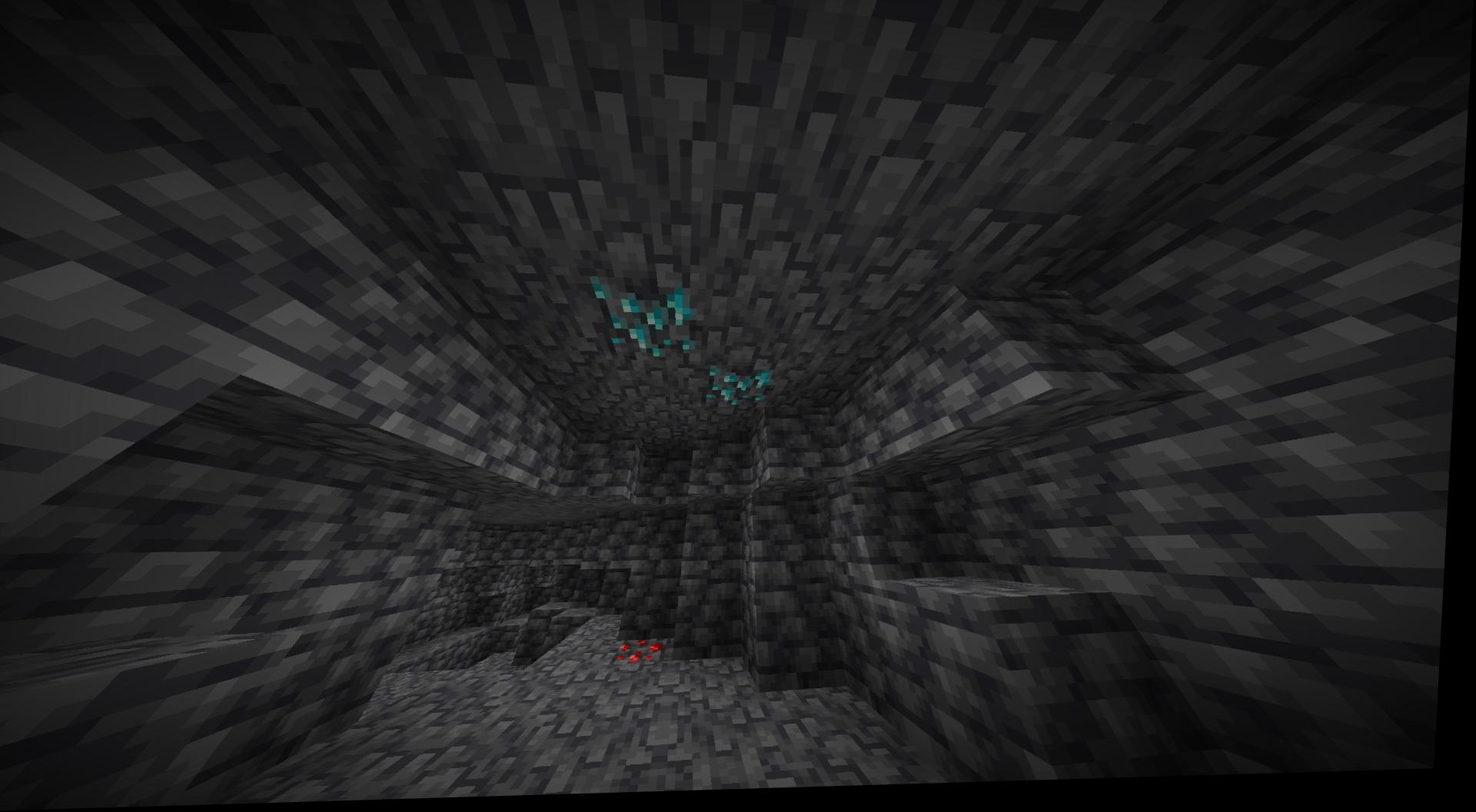diamond ore: (594, 281, 708, 368), (700, 369, 783, 415)
redstone ore: (617, 640, 680, 668)
